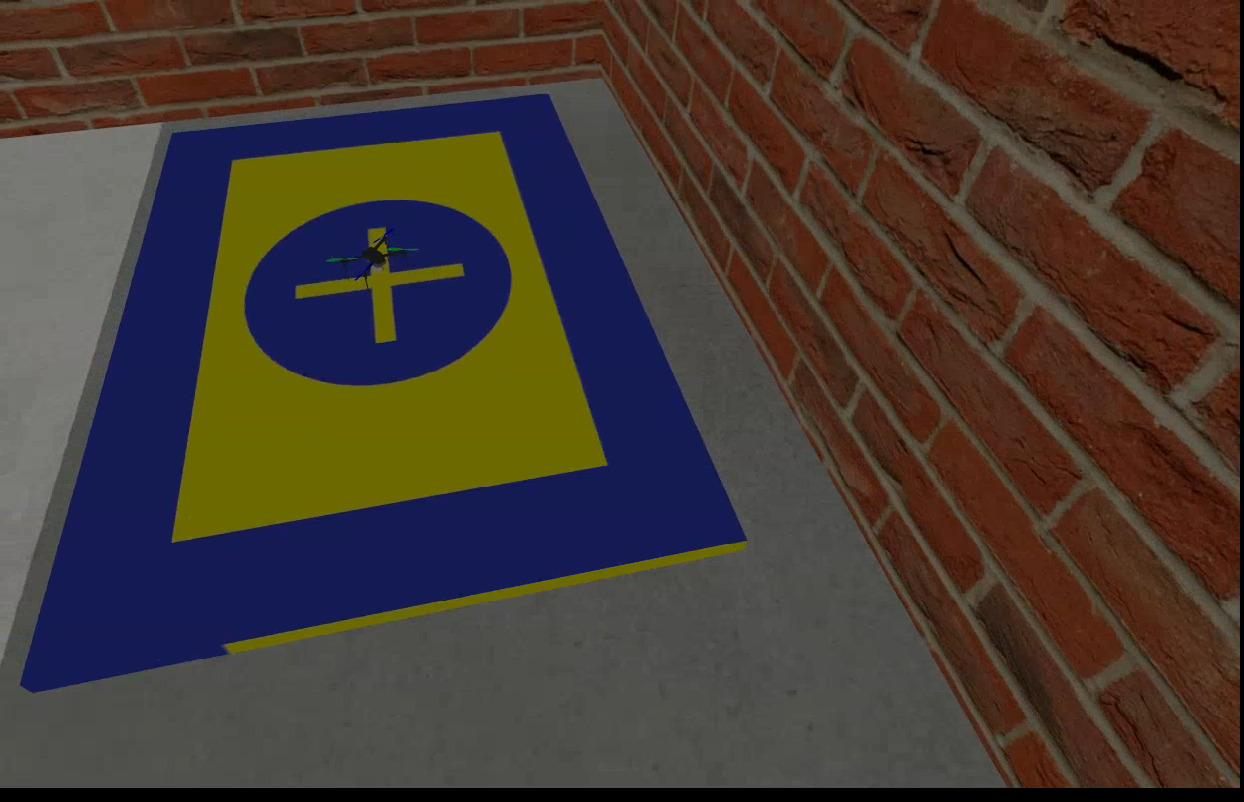large_base: (13, 93, 749, 687)
